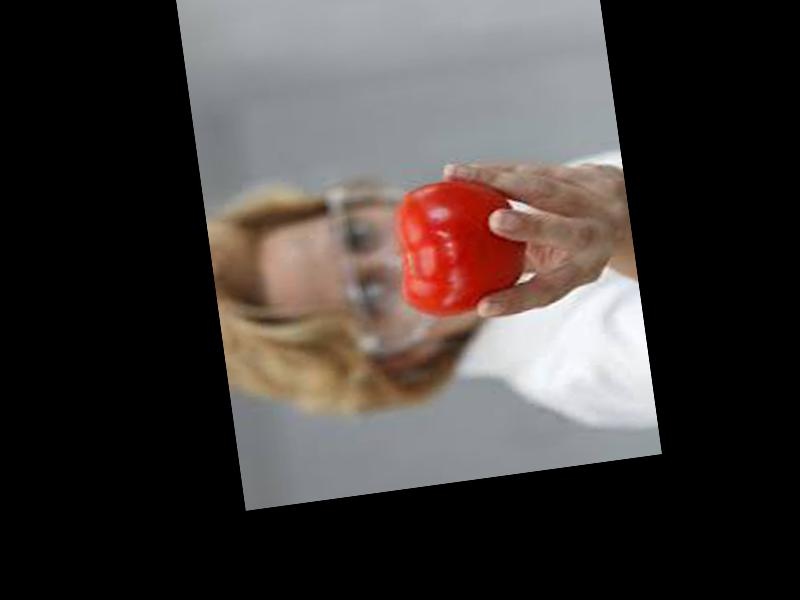Tomato: (391, 173, 531, 324)
